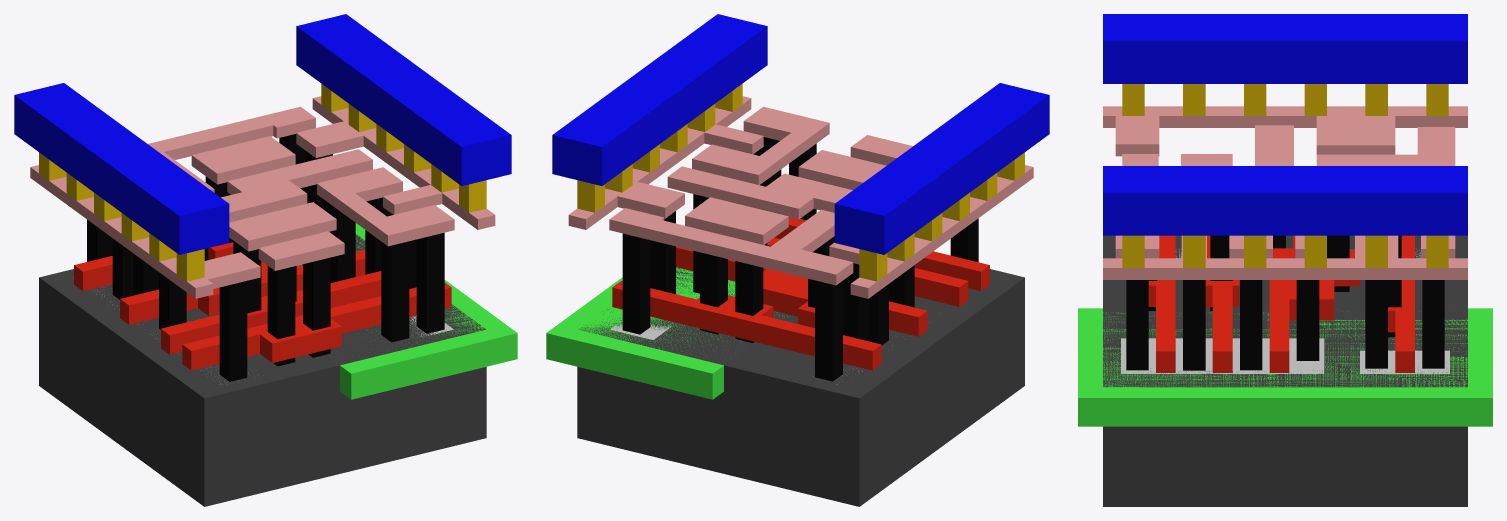
The model's file is sky130_fd_sc_hd__a21boi_0.obj.
3 renders of one model, left to right at view 1: azimuth 30°, elevation 25°; view 2: azimuth 150°, elevation 25°; view 3: azimuth 270°, elevation 25°, orthographic. The views are drawn at different scales.
Parts seen in each view (by area): view 1: subs, metal1, li, licon, poly, nwell, mcon; view 2: subs, metal1, li, licon, poly, nwell, mcon; view 3: metal1, subs, nwell, li, licon, poly, mcon, tap.
Boxes of the visible parts, x1=… form: subs: x1=39, y1=234, x2=486, y2=506; metal1: x1=14, y1=14, x2=511, y2=254; li: x1=30, y1=96, x2=495, y2=298; licon: x1=87, y1=134, x2=444, y2=381; poly: x1=74, y1=242, x2=451, y2=370; nwell: x1=298, y1=223, x2=517, y2=399; mcon: x1=39, y1=83, x2=486, y2=281; subs: x1=577, y1=267, x2=1024, y2=506; metal1: x1=552, y1=14, x2=1049, y2=254; li: x1=568, y1=96, x2=1033, y2=298; licon: x1=622, y1=137, x2=978, y2=381; poly: x1=612, y1=217, x2=989, y2=370; nwell: x1=546, y1=267, x2=787, y2=399; mcon: x1=577, y1=83, x2=1024, y2=281; metal1: x1=1103, y1=14, x2=1467, y2=235; subs: x1=1103, y1=235, x2=1467, y2=506; nwell: x1=1078, y1=308, x2=1492, y2=426; li: x1=1103, y1=106, x2=1467, y2=279; licon: x1=1126, y1=235, x2=1444, y2=370; poly: x1=1148, y1=235, x2=1414, y2=372; mcon: x1=1122, y1=84, x2=1448, y2=267; tap: x1=1121, y1=338, x2=1449, y2=373.
Bounding box in the file's own units: 3.2 × 2.74 × 3.14.
